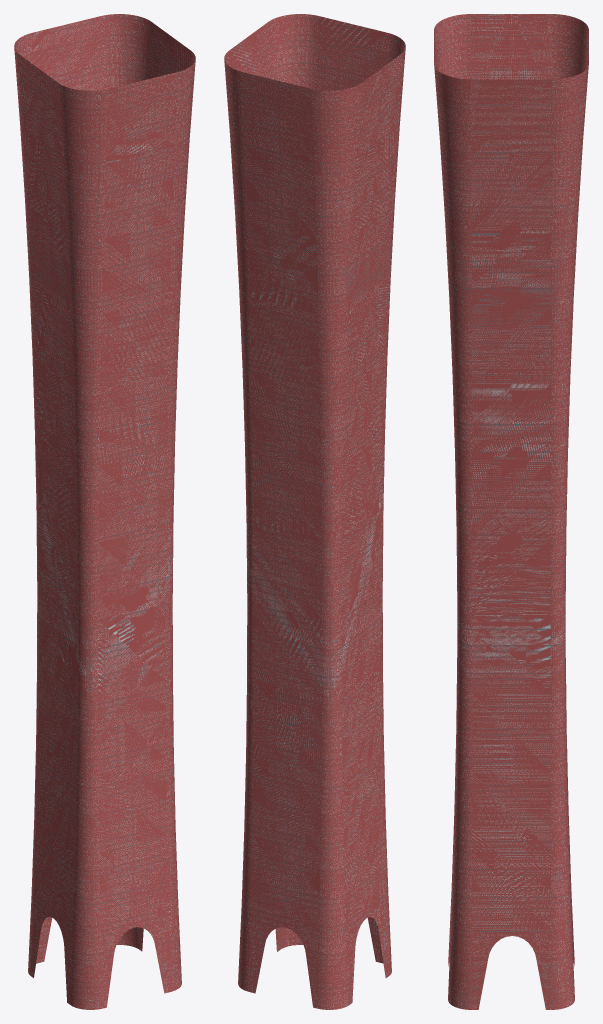
File: 中国尊1.dae
3 views of the same model, side by side, from view 1: azimuth 30°, elevation 25°; view 2: azimuth 150°, elevation 25°; view 3: azimuth 270°, elevation 25° (orthographic).
Parts seen in each view (by area): view 1: SketchUp; view 2: SketchUp; view 3: SketchUp.
Part boxes in pixels (<box>): SketchUp: <box>14,14,195,1009</box>; SketchUp: <box>224,14,405,1009</box>; SketchUp: <box>434,14,588,1009</box>.
Size of the model in its own units: 3117 by 3117 by 20789.
2 materials, 1 textured.
